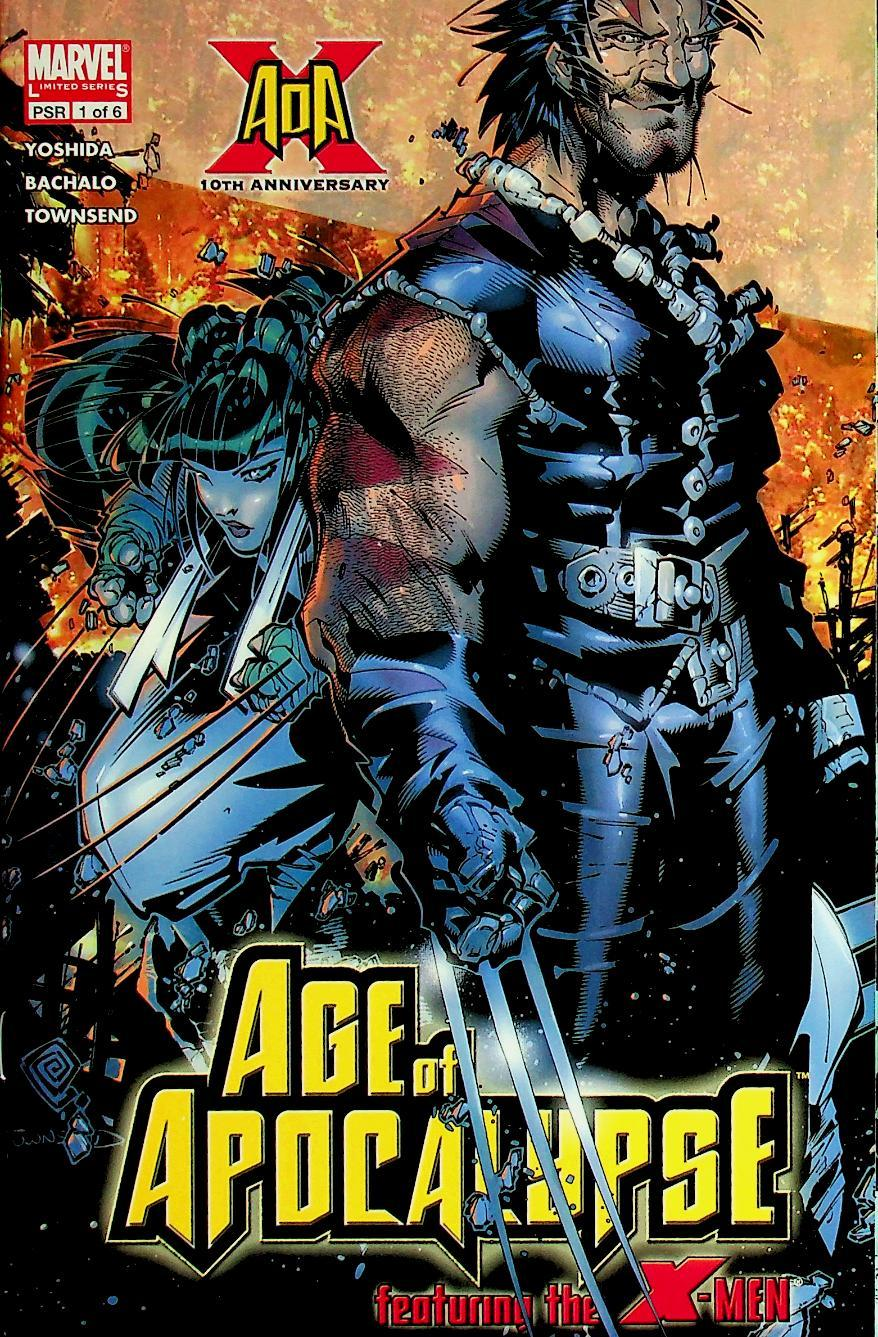comic: (0, 0, 875, 1336)
